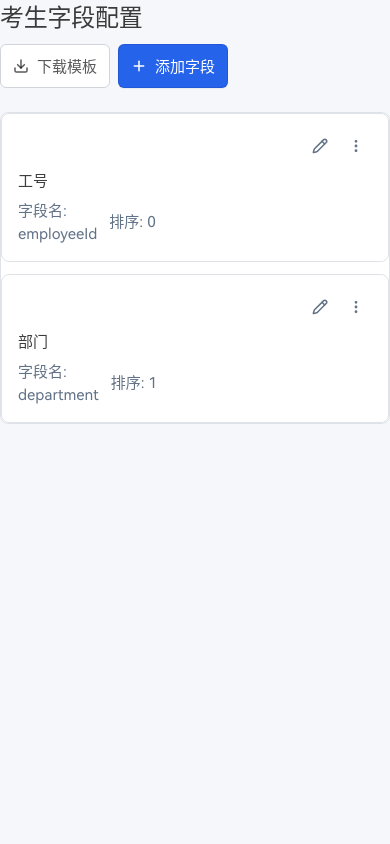
Test: CandidateFieldsPage › opens edit dialog with field data
This screenshot has width=390, height=844.
What coordinates should you click on to do the following:
click the 1st button named "编辑字段"
I would click on:
 (320, 146)
Its box is [304, 130, 336, 162].
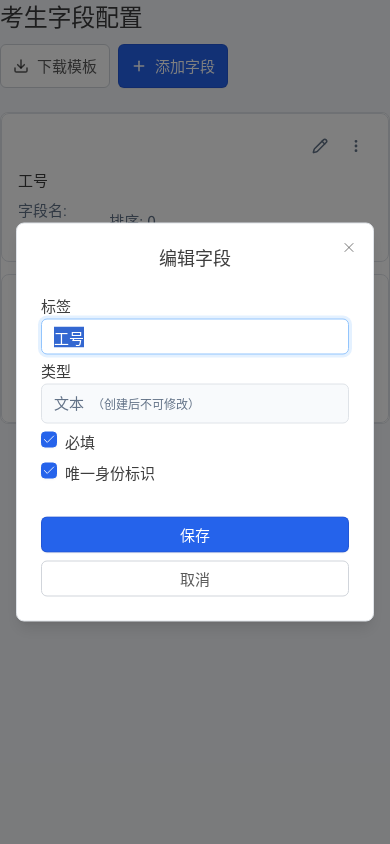
Check: the heading "编辑字段" is shown, box [159, 244, 231, 270]
Check: the text "（创建后不可修改）" is shown, box [92, 398, 200, 412]
Check: the field holds "工号", box [41, 318, 349, 354]
